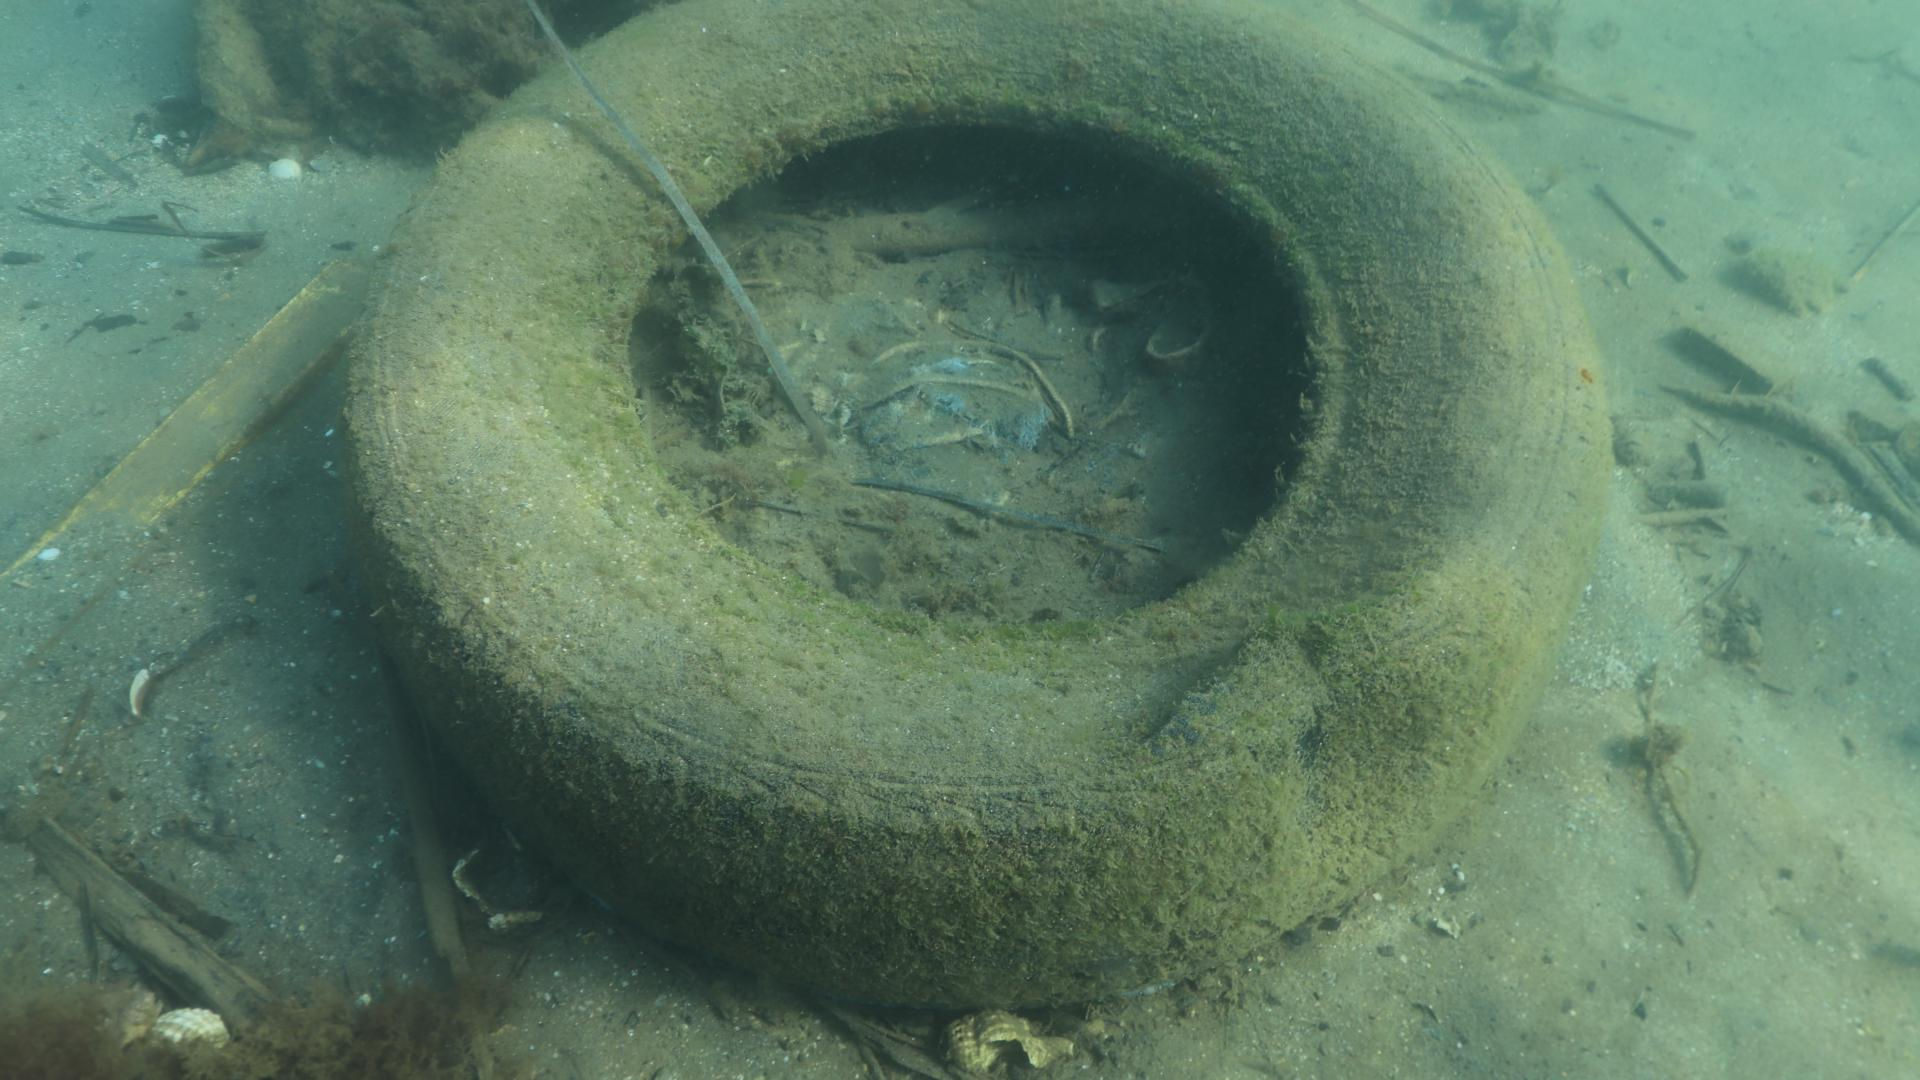tire: (344, 0, 1611, 1021)
